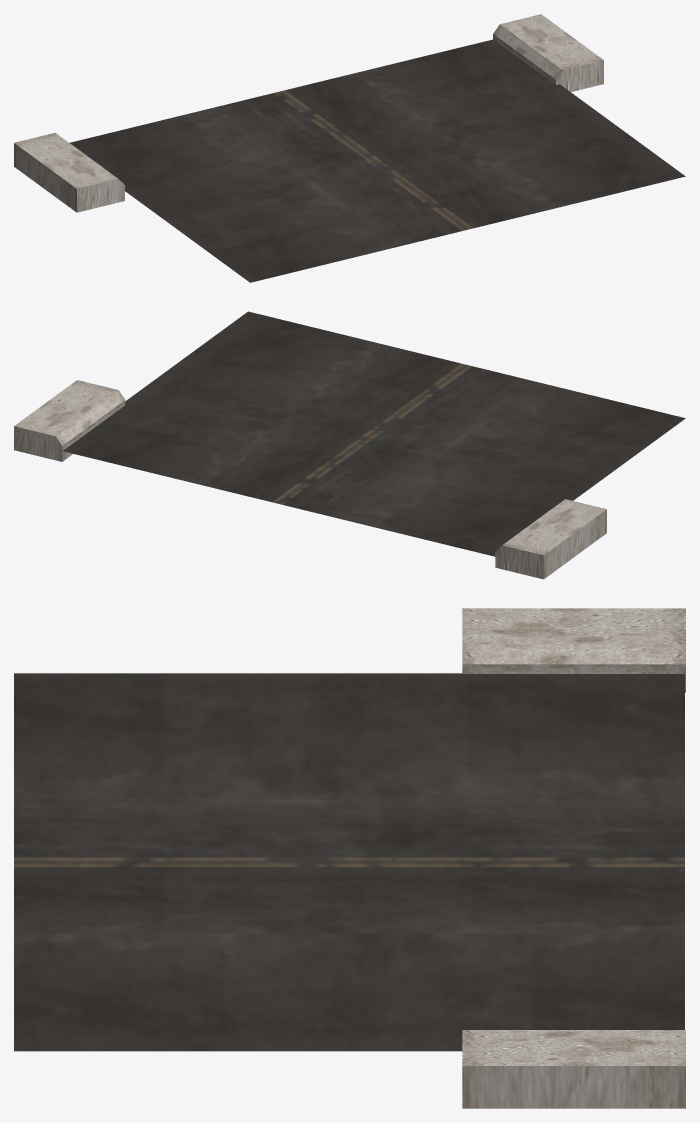
The model's file is road.glb.
3 renders of one model, top to bottom at view 1: azimuth 30°, elevation 25°; view 2: azimuth 150°, elevation 25°; view 3: azimuth 270°, elevation 25°, orthographic. The views are drawn at different scales.
Visible parts, largest first — view 1: road-col, curb-col.001, curb-col; view 2: road-col, curb-col.001, curb-col; view 3: road-col, curb-col, curb-col.001.
Boxes of the visible parts, left/top/right/bottom form: road-col: left=69, top=39, right=685, bottom=282; curb-col.001: left=14, top=132, right=124, bottom=212; curb-col: left=493, top=14, right=603, bottom=91; road-col: left=63, top=311, right=685, bottom=556; curb-col.001: left=495, top=499, right=606, bottom=579; curb-col: left=14, top=380, right=125, bottom=461; road-col: left=14, top=673, right=684, bottom=1051; curb-col: left=462, top=1030, right=685, bottom=1108; curb-col.001: left=462, top=608, right=685, bottom=692.
Bounding box in the file's own units: 9.68 × 0.42 × 6.01.
2 materials, 2 textured.
